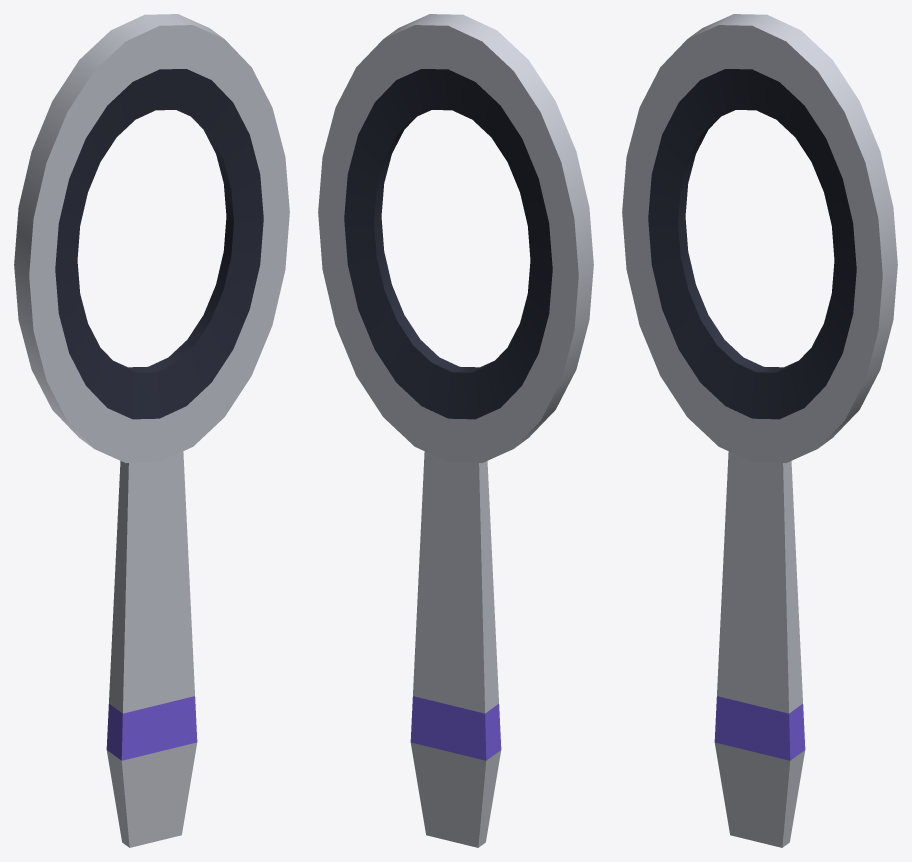
The model's file is Racket.fbx.
3 views of the same model, side by side, from view 1: azimuth 30°, elevation 25°; view 2: azimuth 150°, elevation 25°; view 3: azimuth 330°, elevation 25° (orthographic).
Visible parts, largest first — view 1: mergedBlocks; view 2: mergedBlocks; view 3: mergedBlocks.
Part boxes in pixels (left/top/right/bottom): mergedBlocks: left=14, top=14, right=289, bottom=847; mergedBlocks: left=318, top=14, right=593, bottom=847; mergedBlocks: left=622, top=14, right=897, bottom=847.
Size of the model in its own units: 10 by 30 by 1.
